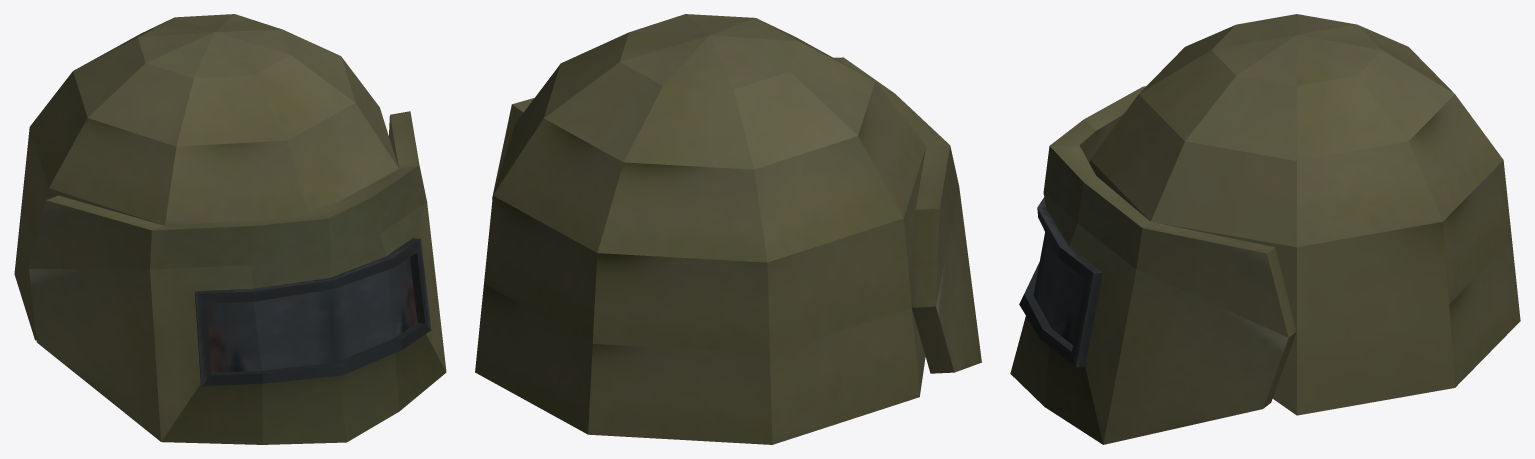
The model's file is AtlynHelmet.fbx.
3 renders of one model, left to right at view 1: azimuth 30°, elevation 25°; view 2: azimuth 150°, elevation 25°; view 3: azimuth 270°, elevation 25°, orthographic. The views are drawn at different scales.
Parts seen in each view (by area): view 1: FaceCover, Helmet; view 2: Helmet, FaceCover; view 3: Helmet, FaceCover.
Part boxes in pixels (<box>): FaceCover: <box>29,111,446,444</box>; Helmet: <box>14,14,398,340</box>; Helmet: <box>475,14,925,444</box>; FaceCover: <box>492,57,981,373</box>; Helmet: <box>1089,14,1520,415</box>; FaceCover: <box>1010,86,1296,444</box>.
Size of the model in its own units: 216 by 167 by 228.
